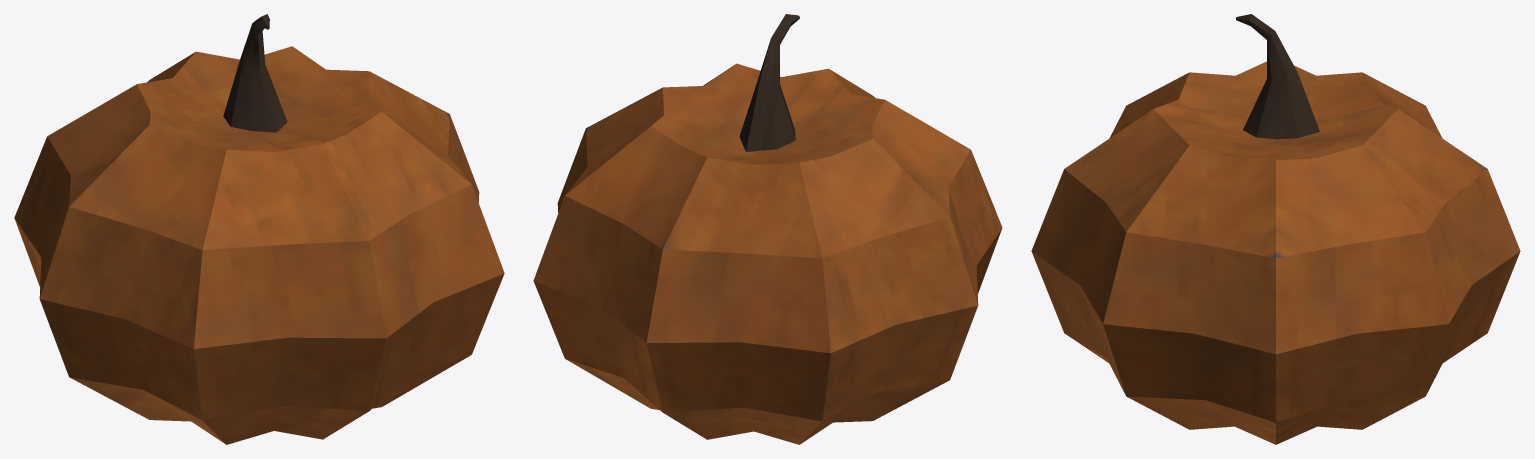
File: Pumpkin.fbx
3 views of the same model, side by side, from view 1: azimuth 30°, elevation 25°; view 2: azimuth 150°, elevation 25°; view 3: azimuth 270°, elevation 25° (orthographic). The views are drawn at different scales.
Visible parts, largest first — view 1: pumpkin; view 2: pumpkin; view 3: pumpkin.
Boxes of the visible parts, bbox=[...] form: pumpkin: bbox=[14, 14, 504, 444]; pumpkin: bbox=[533, 14, 1002, 444]; pumpkin: bbox=[1031, 14, 1520, 444].
Size of the model in its own units: 200 by 170 by 200.
